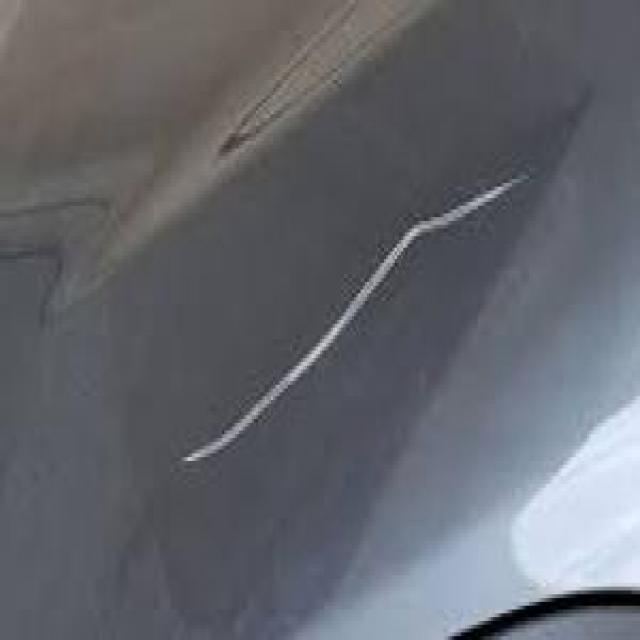scratch: (159, 152, 543, 488)
